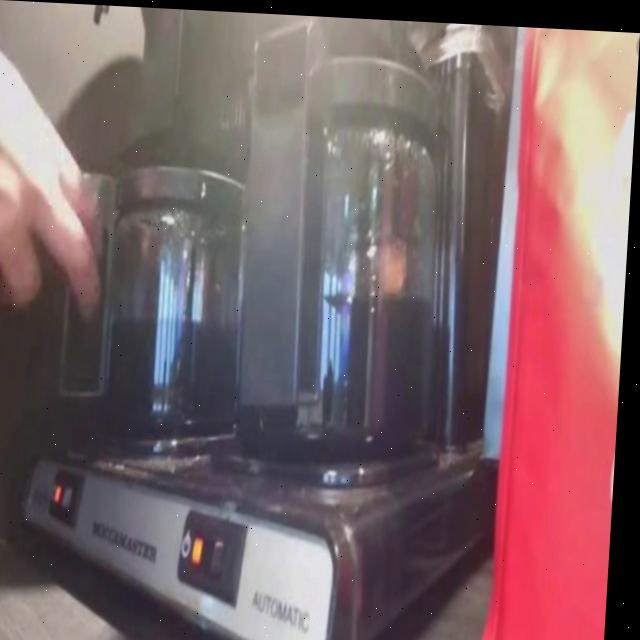coffee: (231, 29, 480, 474), (88, 148, 263, 438)
